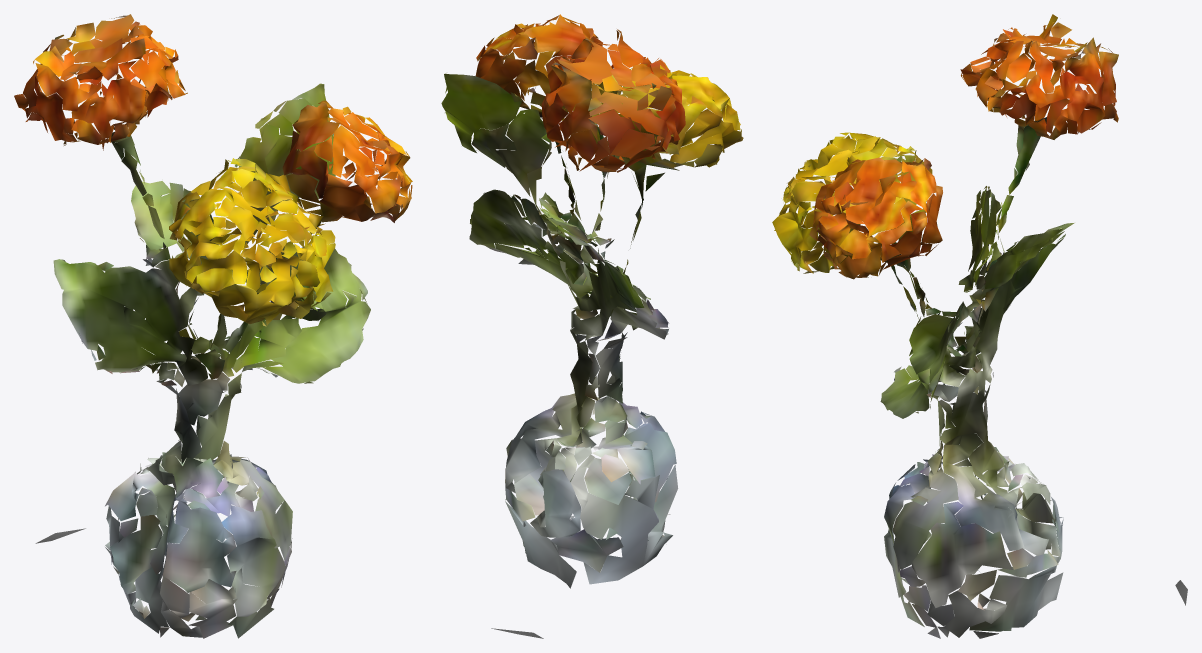
File: cempasuchil.glb
3 views of the same model, side by side, from view 1: azimuth 30°, elevation 25°; view 2: azimuth 150°, elevation 25°; view 3: azimuth 270°, elevation 25° (orthographic). The views are drawn at different scales.
Parts seen in each view (by area): view 1: mesh; view 2: mesh; view 3: mesh.
Part boxes in pixels (left/top/right/bottom): mesh: left=14, top=14, right=412, bottom=638; mesh: left=441, top=14, right=743, bottom=638; mesh: left=772, top=14, right=1187, bottom=638.
Size of the model in its own units: 0.1397 by 0.2643 by 0.1773.
1 material, 1 textured.
